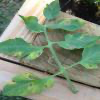Tomato Early blight leaf: (4, 72, 54, 96), (3, 39, 44, 60), (56, 32, 100, 50), (16, 11, 44, 34), (49, 19, 89, 31)
Tomato leaf: (42, 0, 61, 20)
